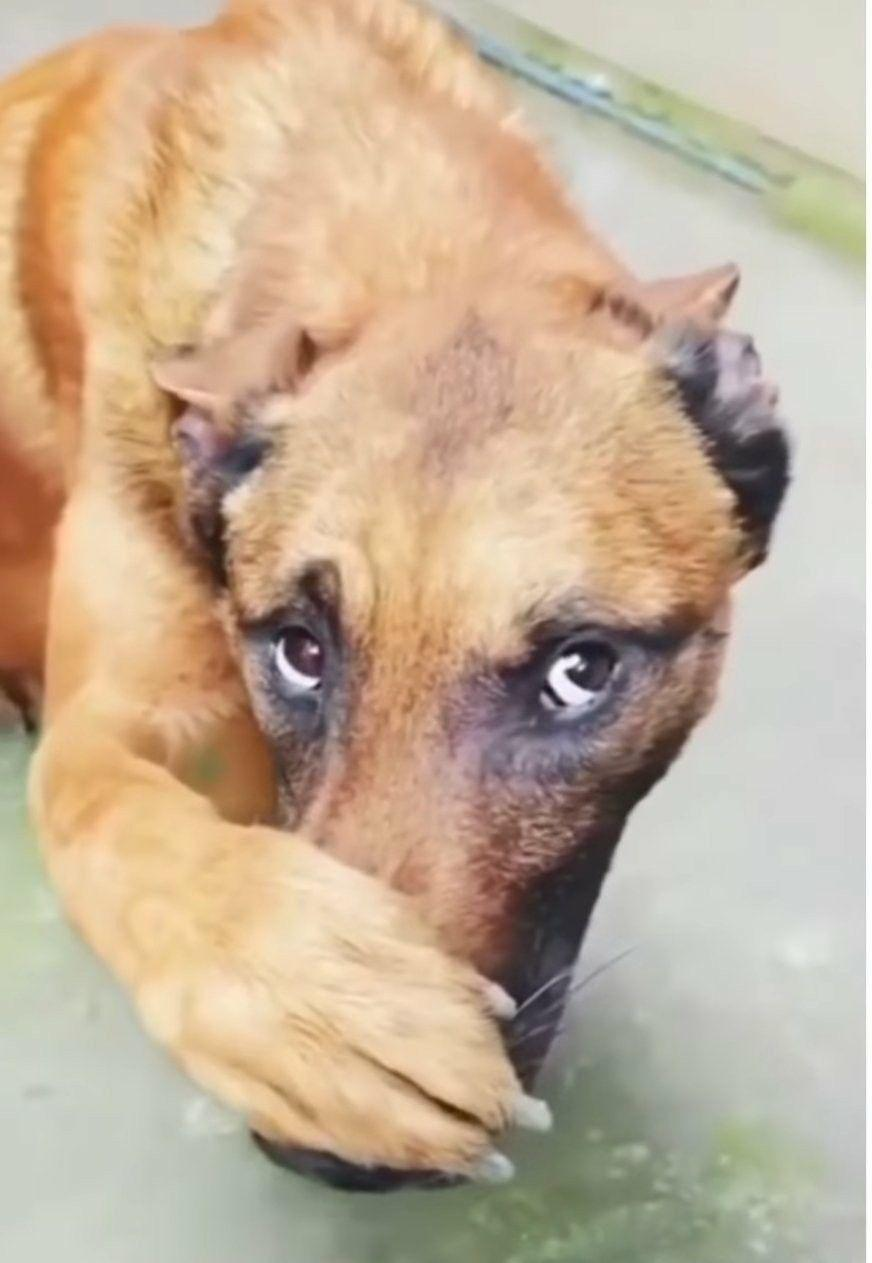adult_dog: (0, 2, 785, 1194)
